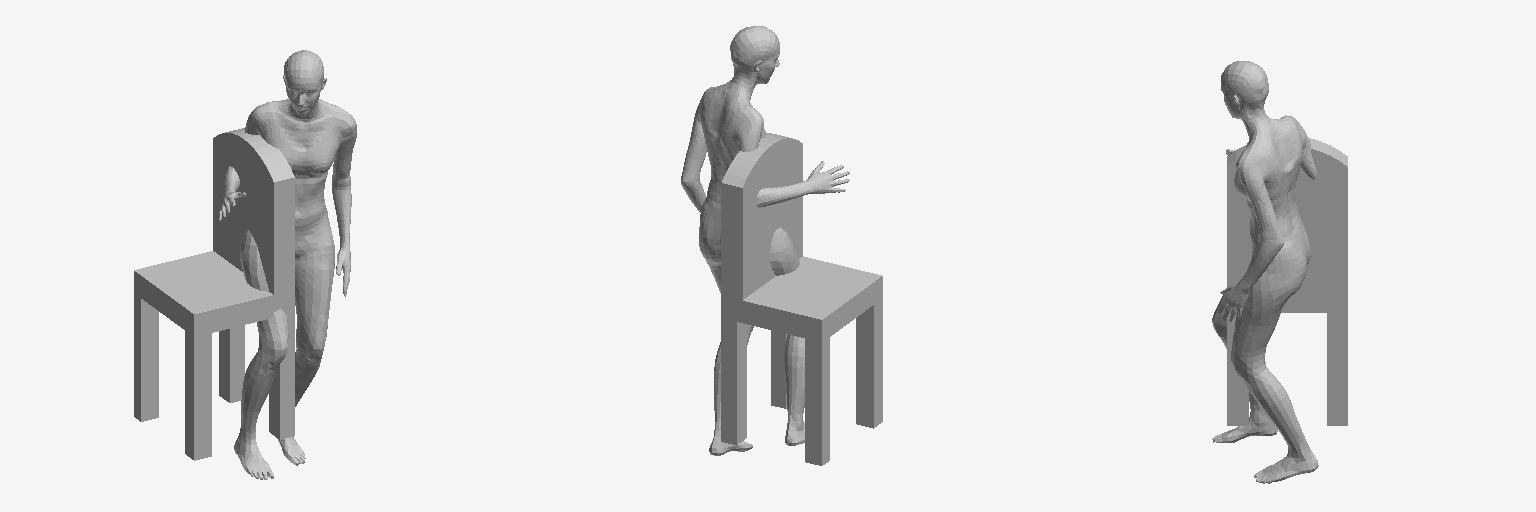
Rendered from sample2.obj.
3 views of the same model, side by side, from view 1: azimuth 30°, elevation 25°; view 2: azimuth 150°, elevation 25°; view 3: azimuth 270°, elevation 25° (orthographic).
Visible parts, largest first — view 1: mesh1_mesh1_geometry, default; view 2: mesh1_mesh1_geometry, default; view 3: default, mesh1_mesh1_geometry.
Boxes of the visible parts, x1=… form: mesh1_mesh1_geometry: x1=134, y1=128, x2=294, y2=460; default: x1=219, y1=50, x2=356, y2=479; mesh1_mesh1_geometry: x1=721, y1=133, x2=882, y2=465; default: x1=681, y1=26, x2=849, y2=455; default: x1=1212, y1=61, x2=1318, y2=483; mesh1_mesh1_geometry: x1=1227, y1=138, x2=1347, y2=425.
Size of the model in its own units: 0.7643 by 1.73 by 0.5104.